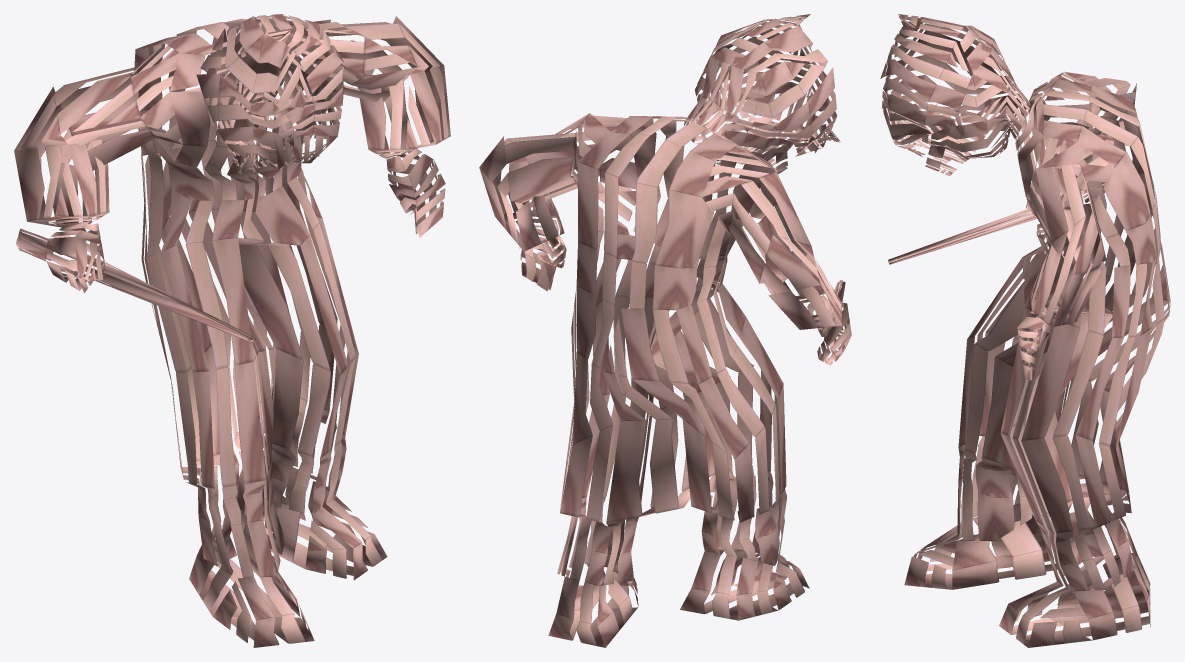
3 renders of one model, left to right at view 1: azimuth 30°, elevation 25°; view 2: azimuth 150°, elevation 25°; view 3: azimuth 270°, elevation 25°, orthographic. The views are drawn at different scales.
Visible parts, largest first — view 1: T1L6M006_0; view 2: T1L6M006_0; view 3: T1L6M006_0.
Part boxes in pixels (x1,y1,x2,y2): T1L6M006_0: [14, 14, 450, 647]; T1L6M006_0: [479, 14, 851, 647]; T1L6M006_0: [880, 14, 1170, 647].
Bounding box in the file's own units: 0.8007 × 1.15 × 0.546.
